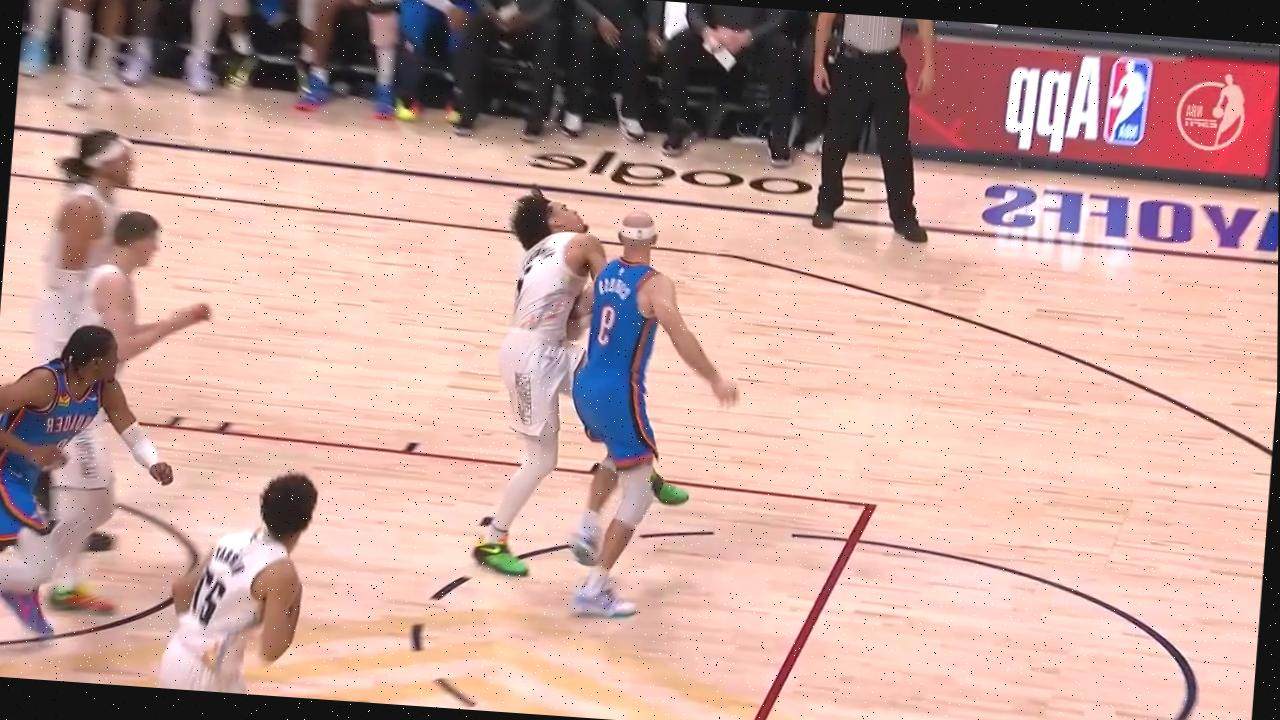foul: (419, 138, 756, 616)
